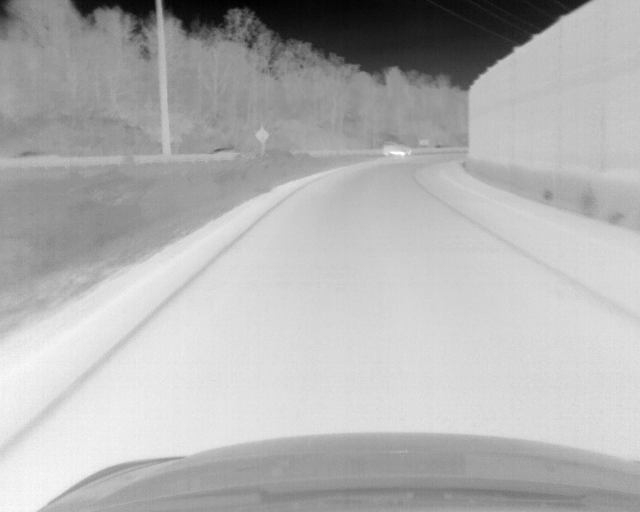car: (382, 140, 412, 156)
